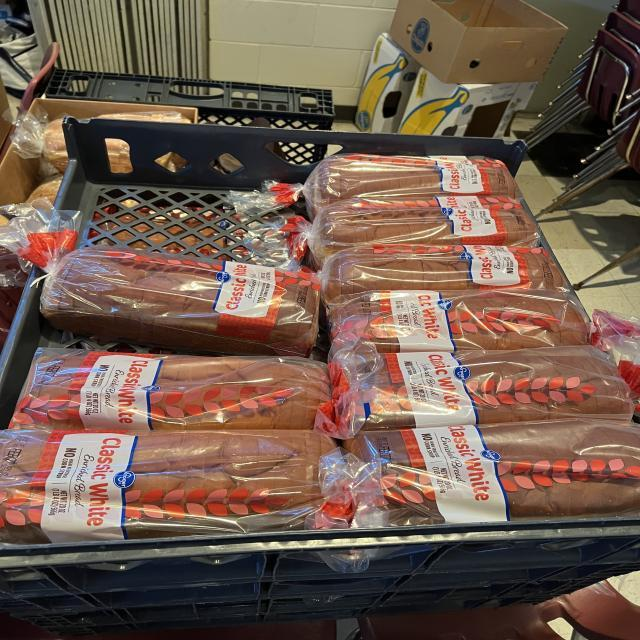Bread: (0, 200, 318, 356), (0, 430, 335, 544), (308, 419, 640, 529), (335, 345, 633, 438), (12, 349, 330, 430), (328, 289, 592, 352), (308, 196, 538, 264), (318, 244, 568, 304), (305, 154, 518, 219), (10, 109, 68, 172), (225, 180, 303, 216), (595, 311, 640, 365), (27, 176, 62, 204), (105, 139, 132, 174), (100, 111, 187, 121)
